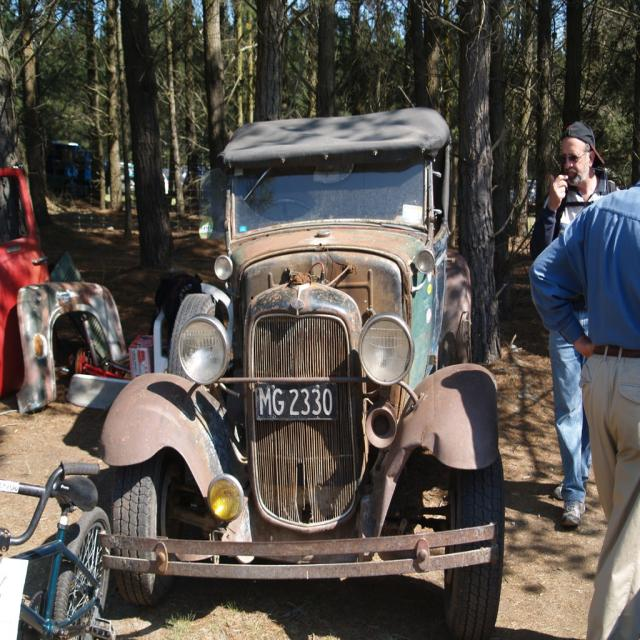car: (95, 103, 506, 639)
